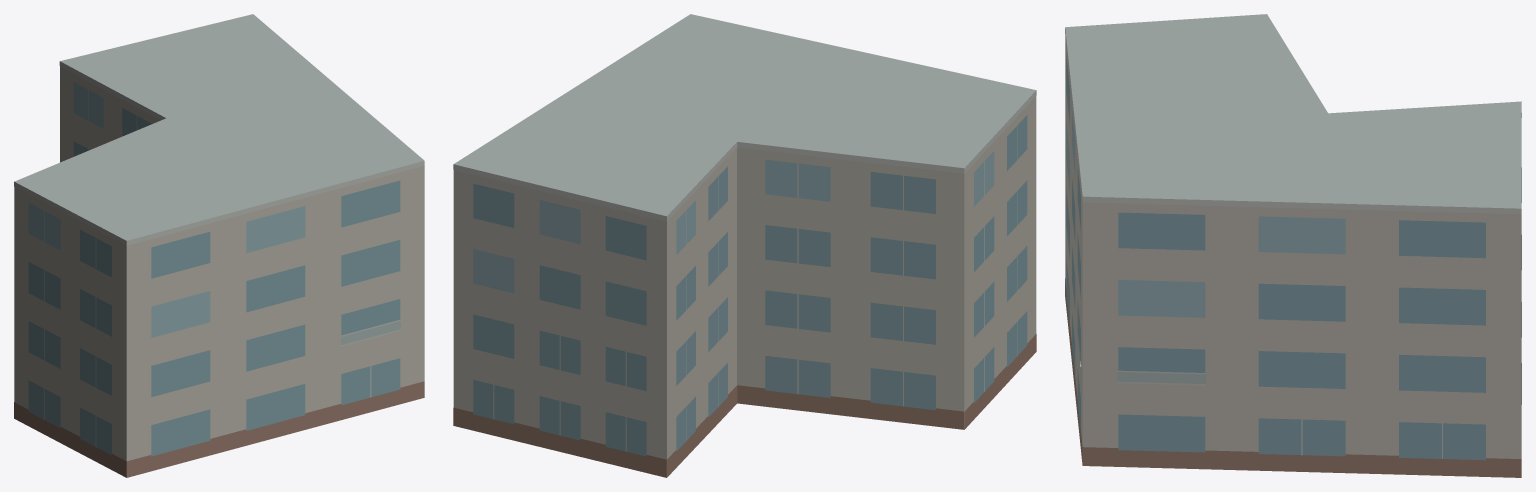
The model's file is survey-upis-32641038.glb.
3 renders of one model, left to right at view 1: azimuth 30°, elevation 25°; view 2: azimuth 150°, elevation 25°; view 3: azimuth 270°, elevation 25°, orthographic. The views are drawn at different scales.
Visible parts, largest first — view 1: survey-upis-32641038.tmp; view 2: survey-upis-32641038.tmp; view 3: survey-upis-32641038.tmp.
Part boxes in pixels (bbox=[...]): survey-upis-32641038.tmp: bbox=[14, 14, 424, 477]; survey-upis-32641038.tmp: bbox=[453, 14, 1036, 477]; survey-upis-32641038.tmp: bbox=[1065, 14, 1521, 477].
Size of the model in its own units: 18.14 by 11.7 by 17.99.
